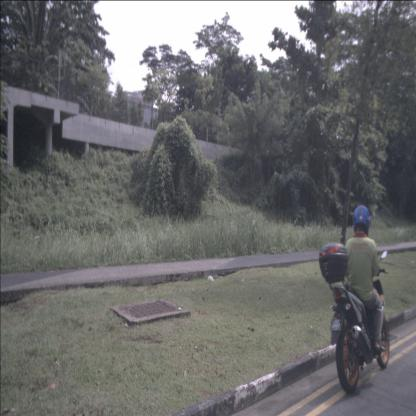vehicle-motorcycle: (318, 204, 390, 394)
